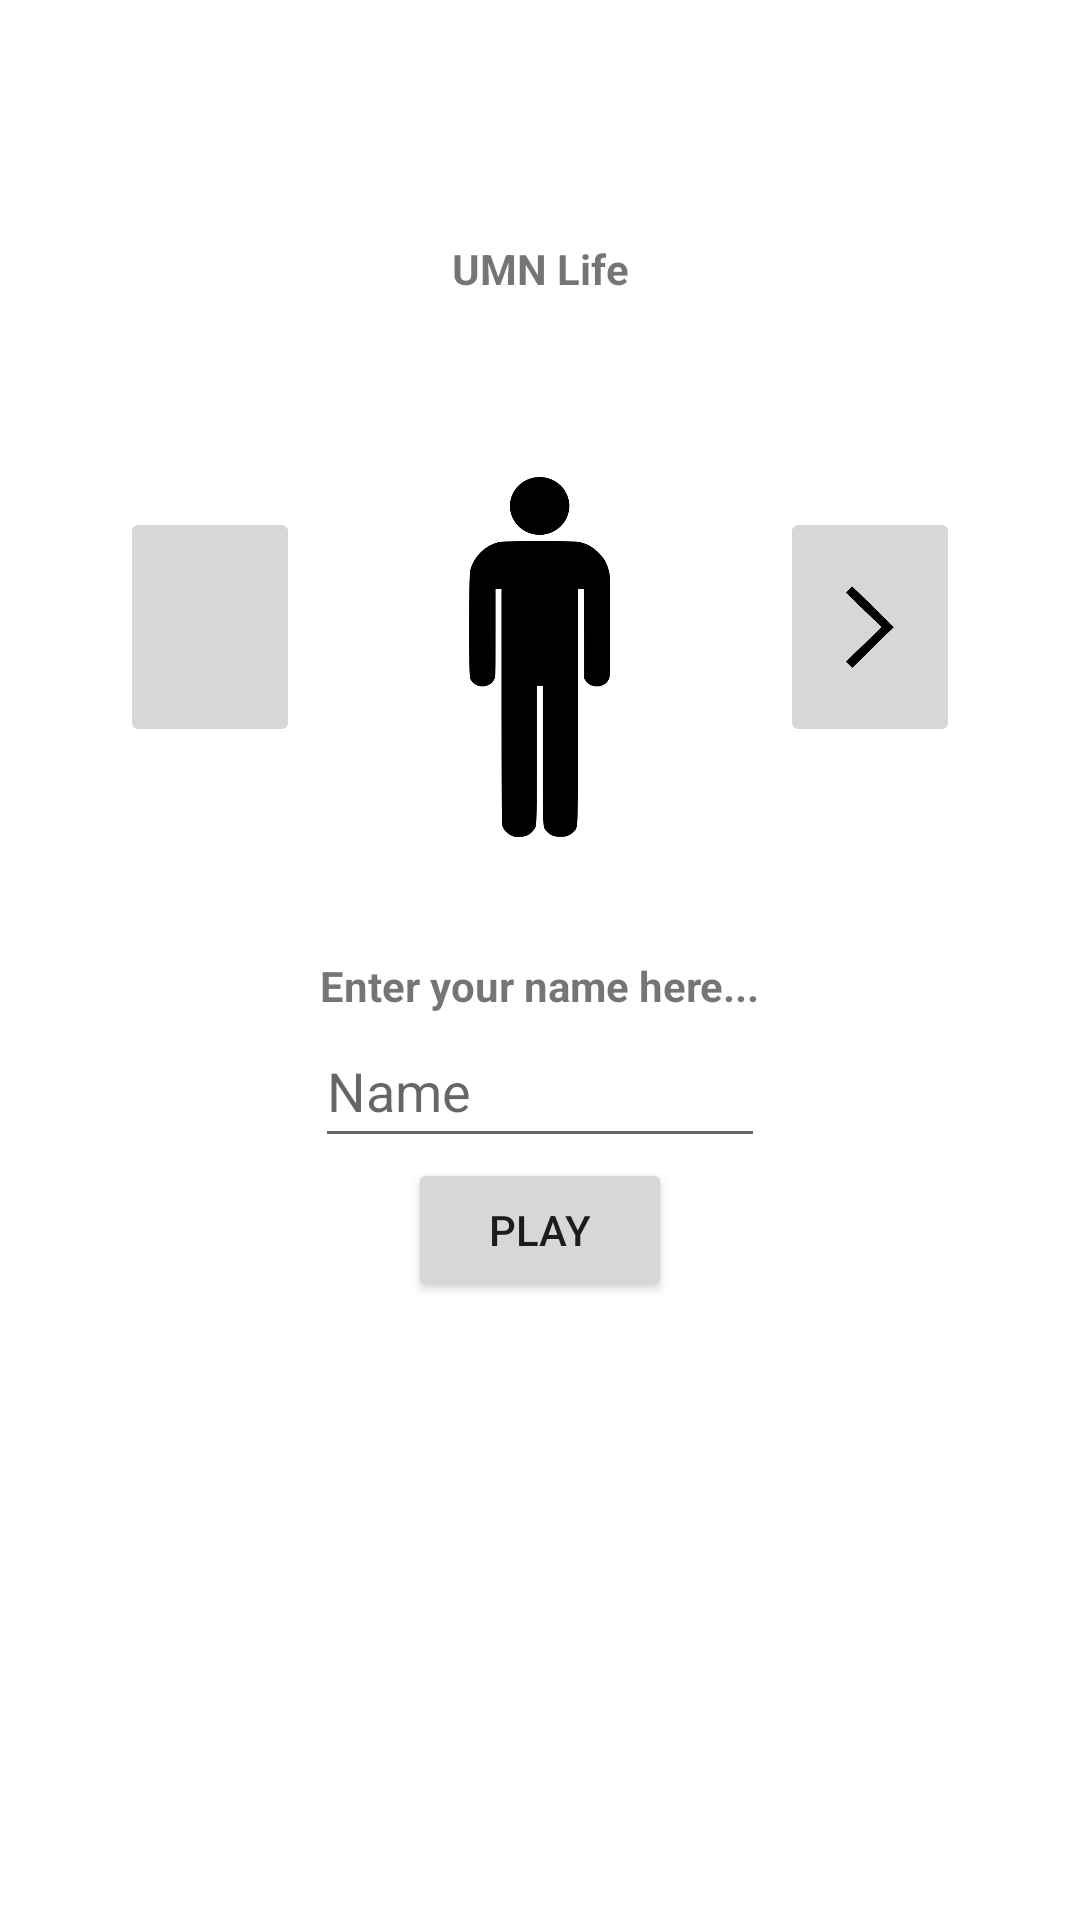

Icons on this 1080 × 1920 Android screen, each with its box as (x1=x1, y1=y1, x2=x2, y2=y2):
man: (x1=469, y1=477, x2=610, y2=837)
Next avatar: (x1=792, y1=525, x2=948, y2=729)
